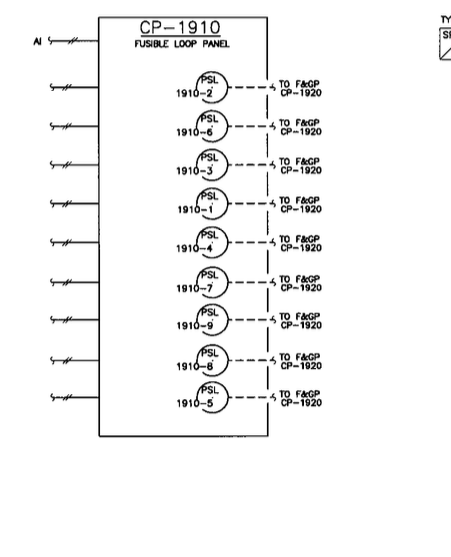Instrument-offset: (166, 67, 229, 106), (173, 224, 232, 260), (174, 379, 231, 416), (174, 264, 231, 301), (172, 107, 229, 144), (177, 344, 232, 380), (174, 303, 229, 339), (176, 147, 230, 183), (176, 185, 230, 220)
